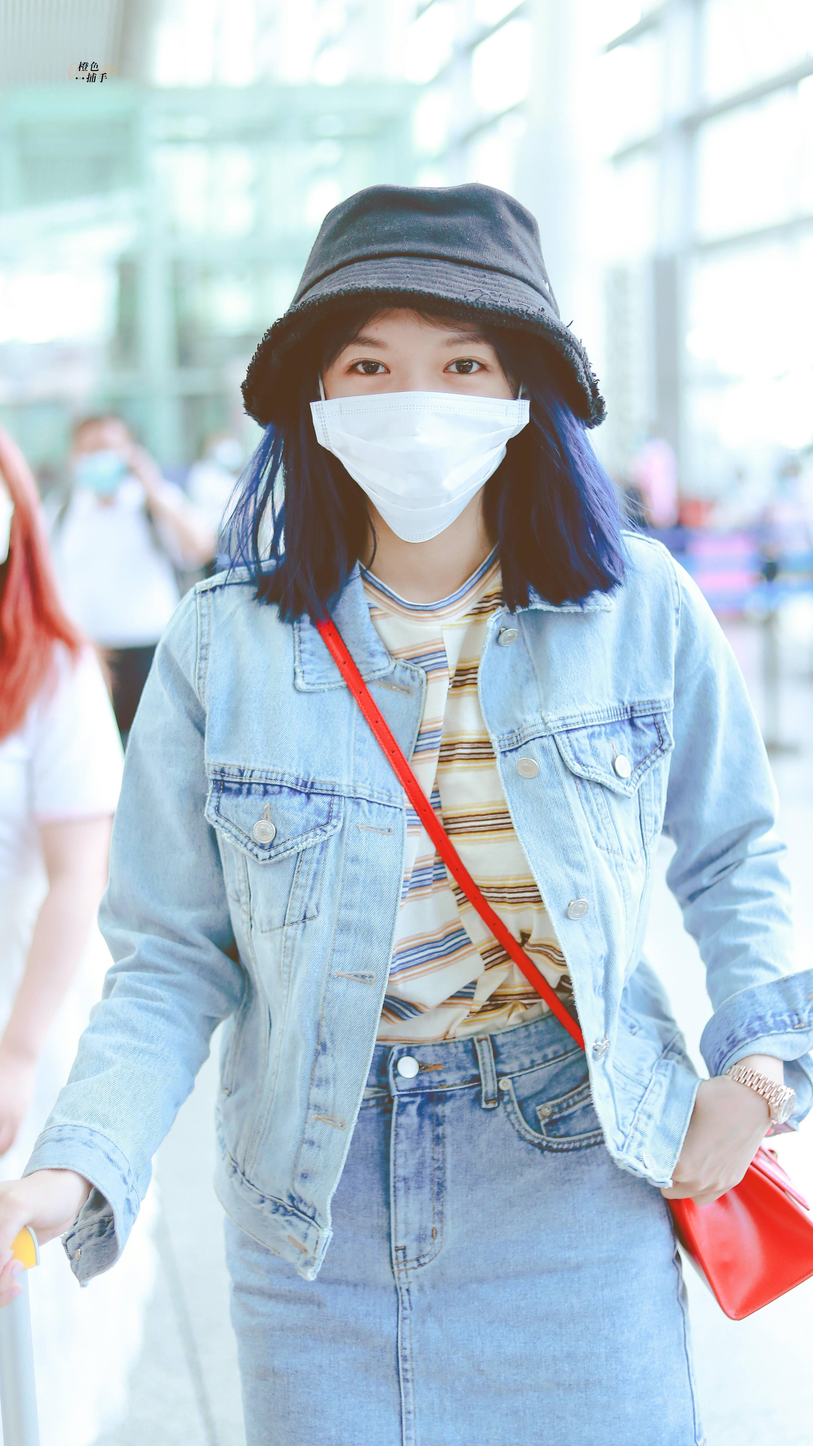OK: (317, 302, 529, 544), (74, 429, 129, 492)
